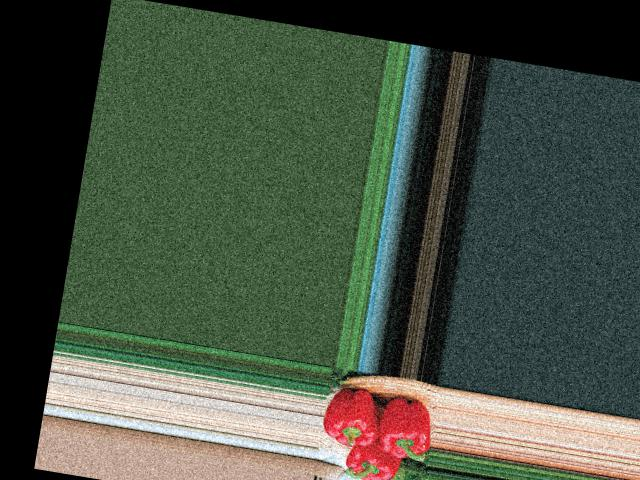bell_pepper: (367, 386, 436, 463)
